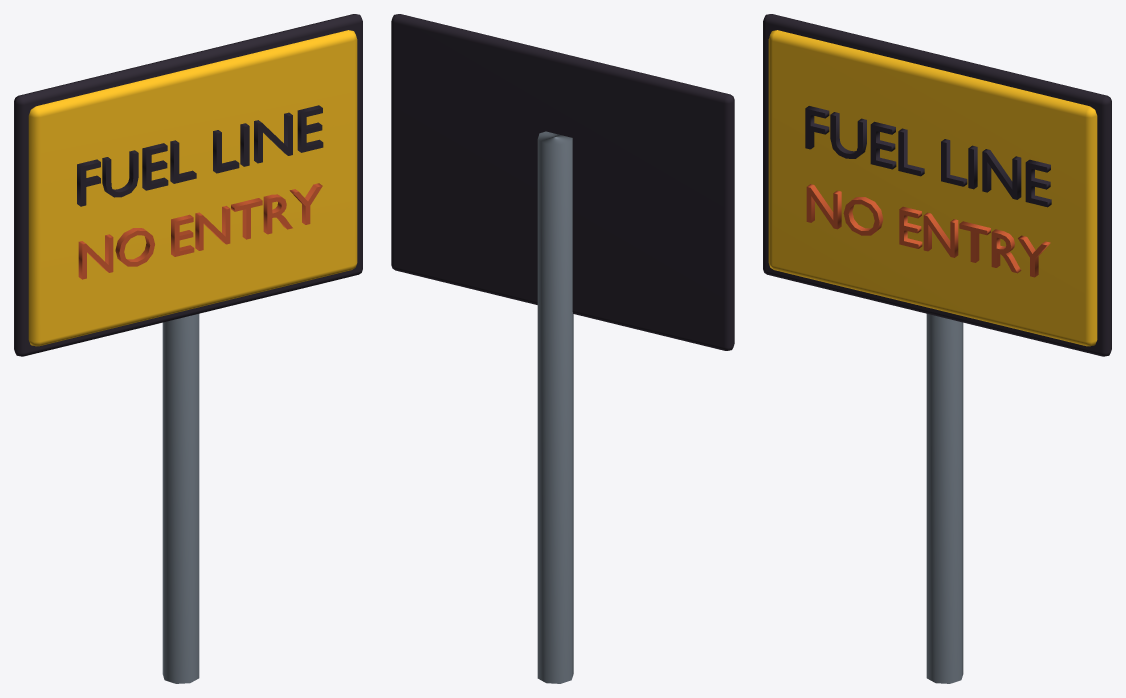
File: dune_warning.glb
3 renders of one model, left to right at view 1: azimuth 30°, elevation 25°; view 2: azimuth 150°, elevation 25°; view 3: azimuth 330°, elevation 25°, orthographic.
Parts seen in each view (by area): view 1: Warning; view 2: Warning; view 3: Warning.
Boxes of the visible parts, left/top/right/bottom form: Warning: left=14, top=14, right=362, bottom=683; Warning: left=391, top=14, right=734, bottom=683; Warning: left=763, top=14, right=1111, bottom=683.
Bounding box in the file's own units: 1.06 × 1.83 × 0.155.
